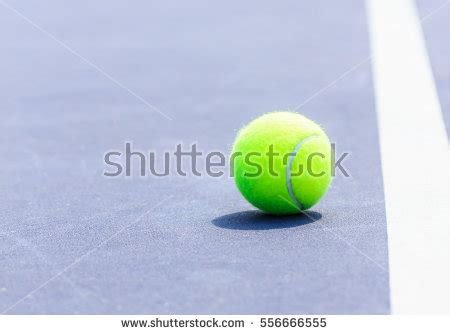tennis_ball: (231, 110, 335, 215)
